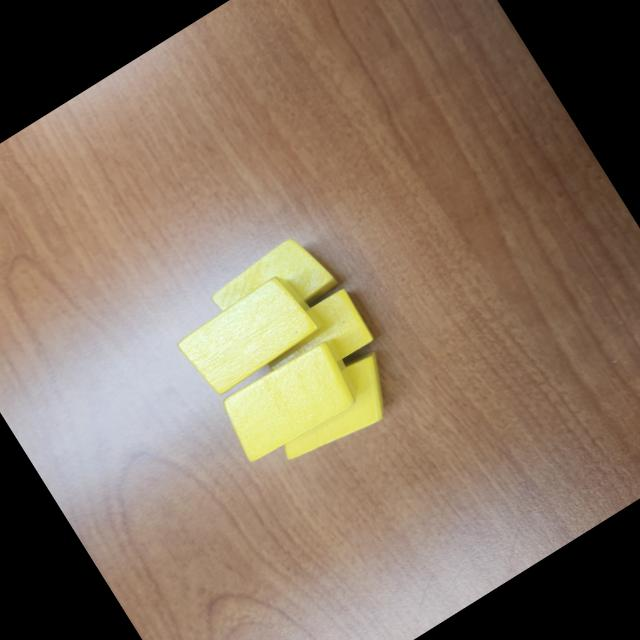yellow: (210, 329, 372, 469), (170, 266, 329, 404), (256, 344, 412, 476), (202, 225, 342, 348), (252, 284, 378, 396)
